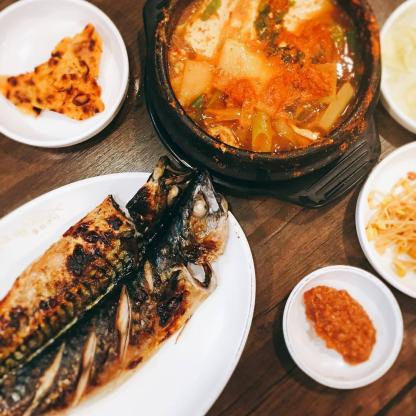Peixe: (0, 166, 231, 415)
